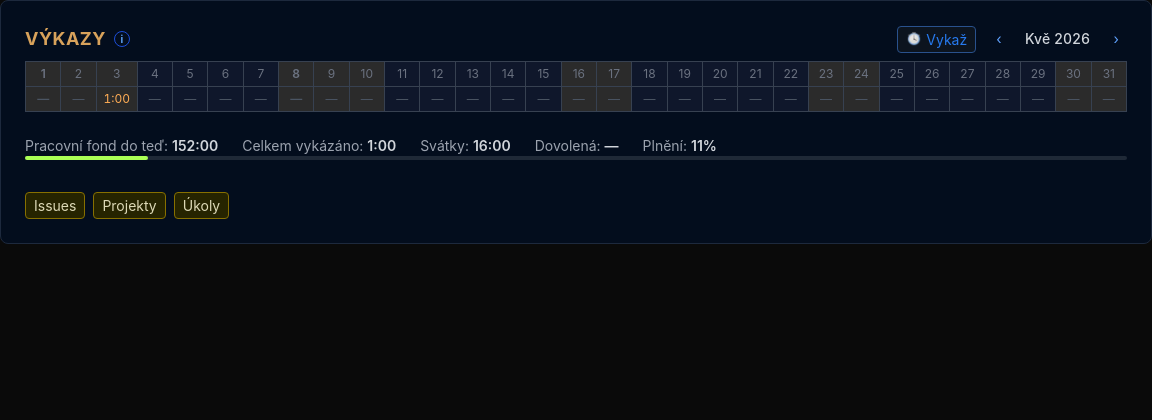
Test case: WorklogsSection monthly issues › zobrazí agregované projekty po kliknutí na projekty v tomto měsíci
Click the button with aria-label "Projekty v tomto měsíci" at (130, 206), box [93,192,166,219]
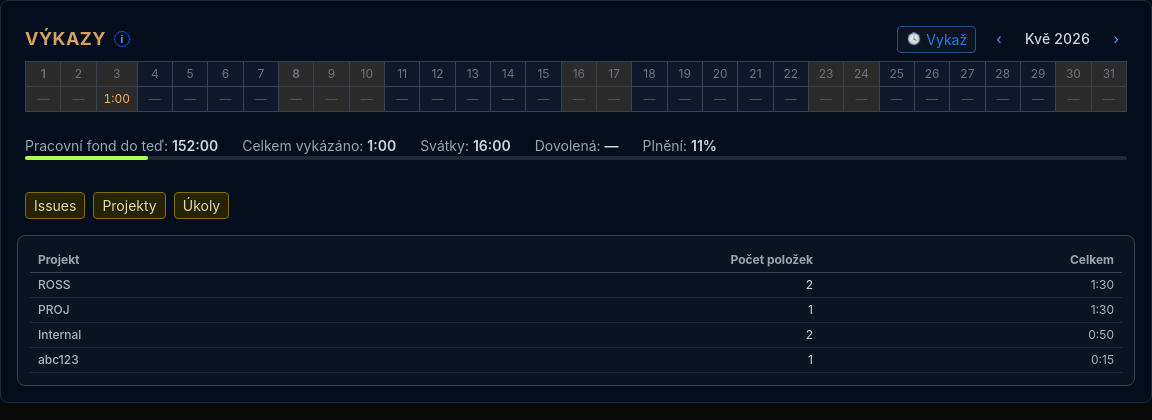
Check: the column heading "Počet položek" is shown, box [327,248,821,272]
Check: the text "ROSS" is shown, box [30,272,327,298]
Check: the text "PROJ" is shown, box [30,298,327,322]
